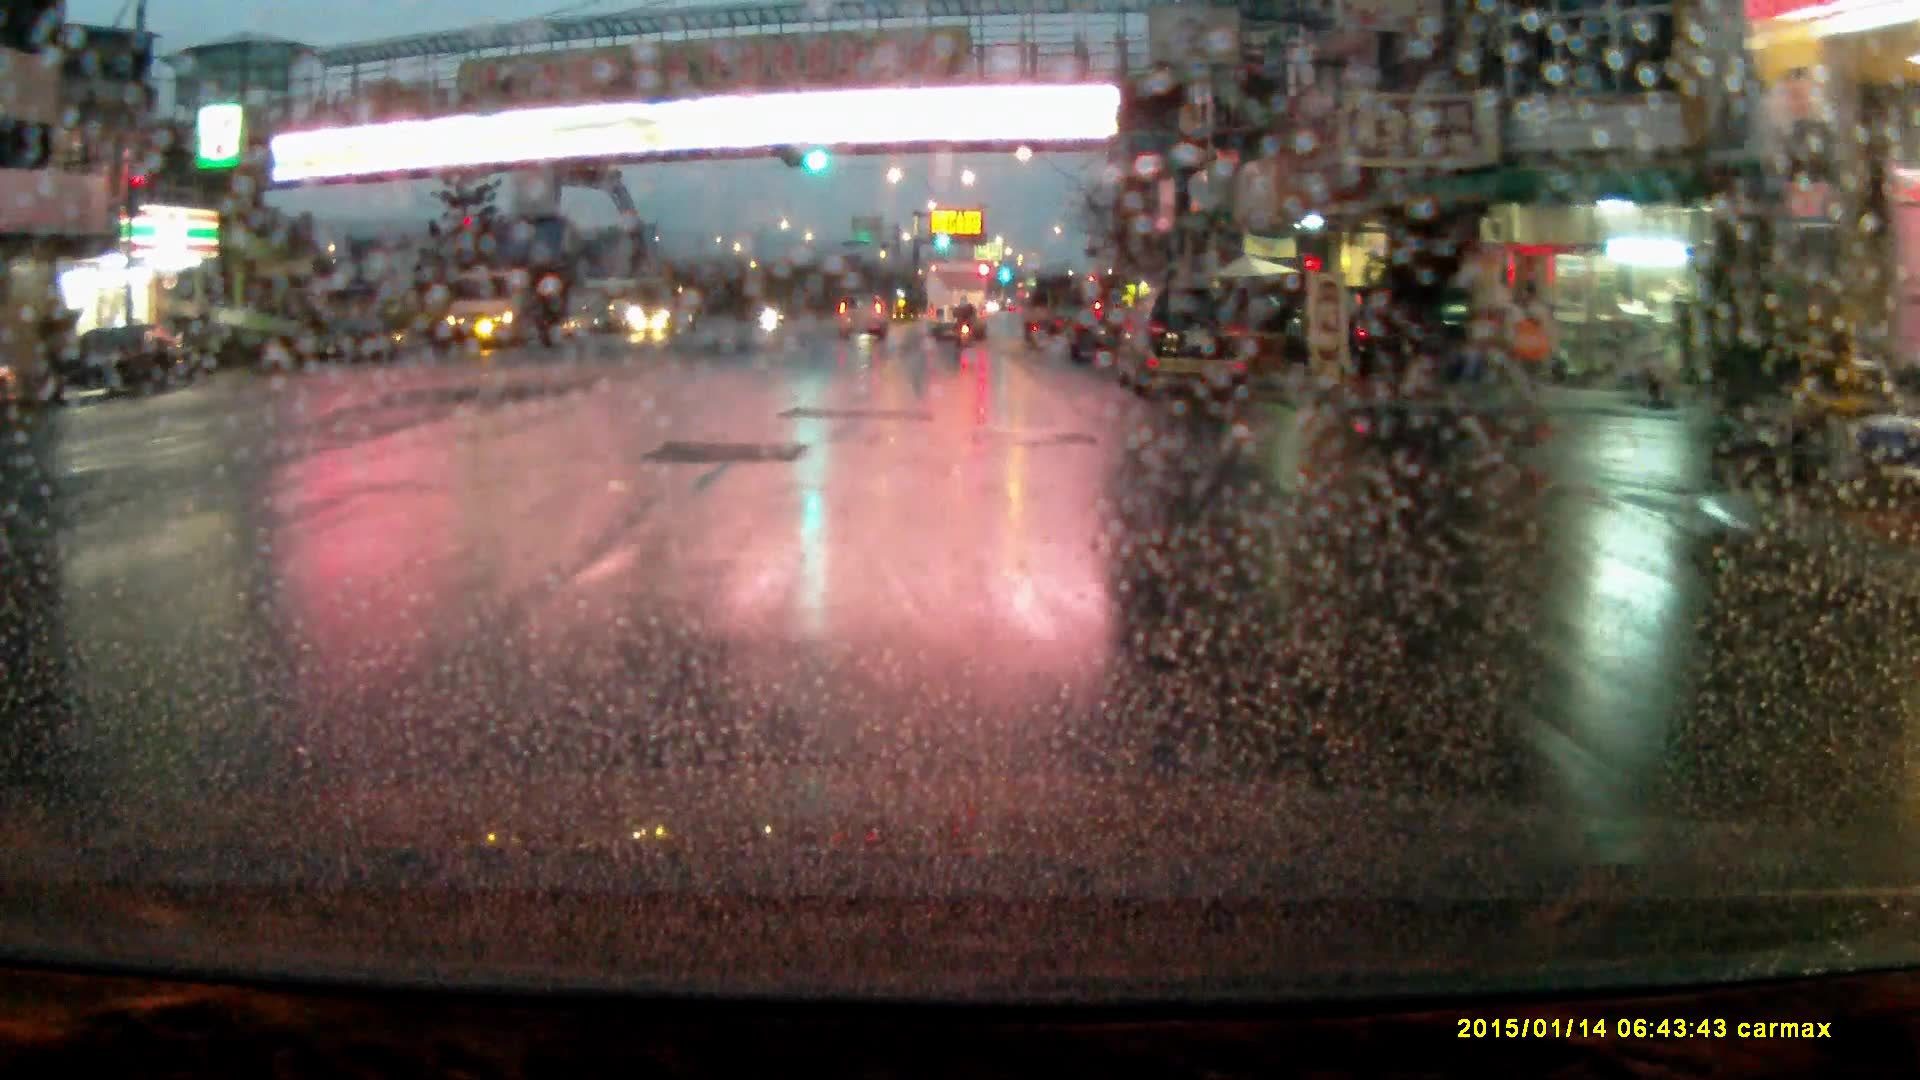pedestrian: (1496, 277, 1558, 454)
rider: (954, 292, 980, 351)
vehicle: (1114, 281, 1249, 396), (38, 323, 182, 403), (1352, 283, 1472, 374), (439, 263, 558, 346), (927, 259, 987, 336), (628, 283, 696, 332), (838, 292, 892, 341)
